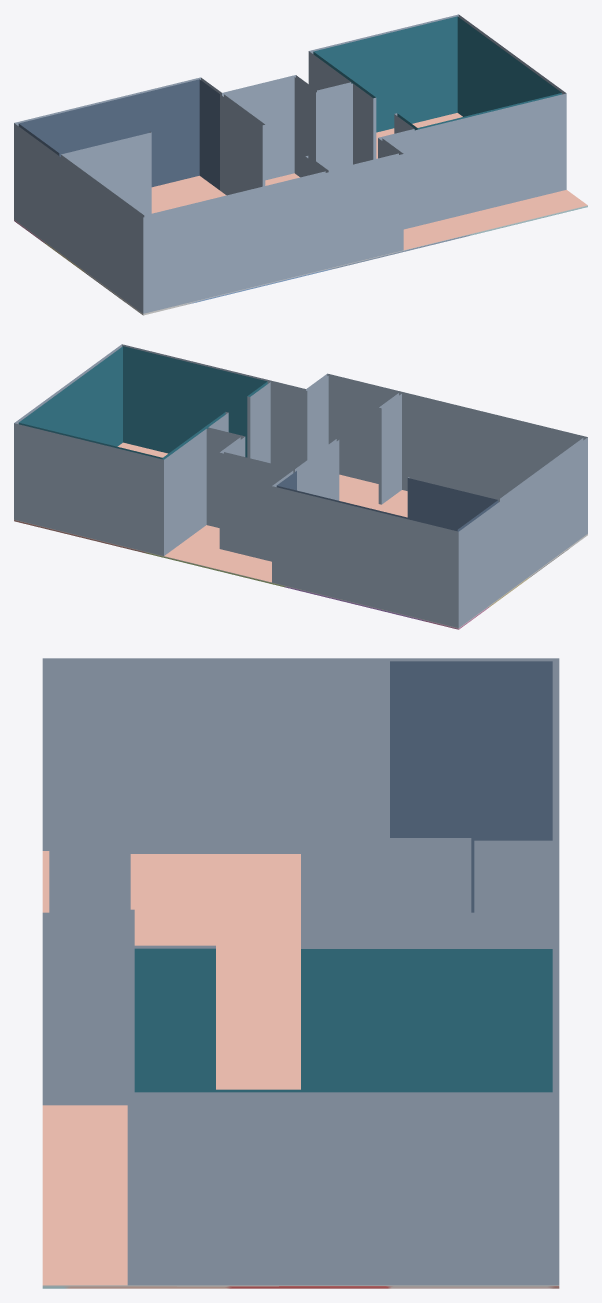
Rendered from BlockoutFloor_final_Texturing.fbx.
3 renders of one model, top to bottom at view 1: azimuth 30°, elevation 25°; view 2: azimuth 150°, elevation 25°; view 3: azimuth 270°, elevation 25°, orthographic. The views are drawn at different scales.
Parts seen in each view (by area): view 1: BlockoutWalls, BlockoutFloor; view 2: BlockoutWalls, BlockoutFloor; view 3: BlockoutWalls, BlockoutFloor.
Boxes of the visible parts, x1,y1,x2,y2 form: BlockoutWalls: (14,14,566,313); BlockoutFloor: (14,113,587,315); BlockoutWalls: (14,344,587,627); BlockoutFloor: (14,442,587,629); BlockoutWalls: (42,658,559,1285); BlockoutFloor: (42,851,559,1288).
Bounding box in the file's own units: 12.07 × 2.54 × 6.07.
